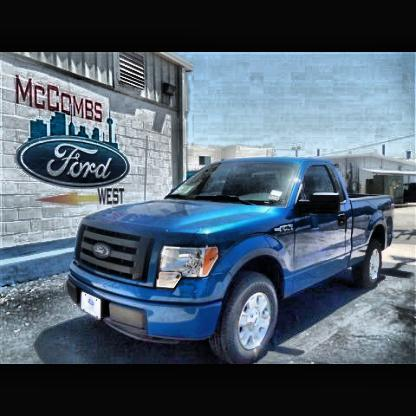Ford F-150 Regular Cab 2012: (65, 156, 397, 364)
